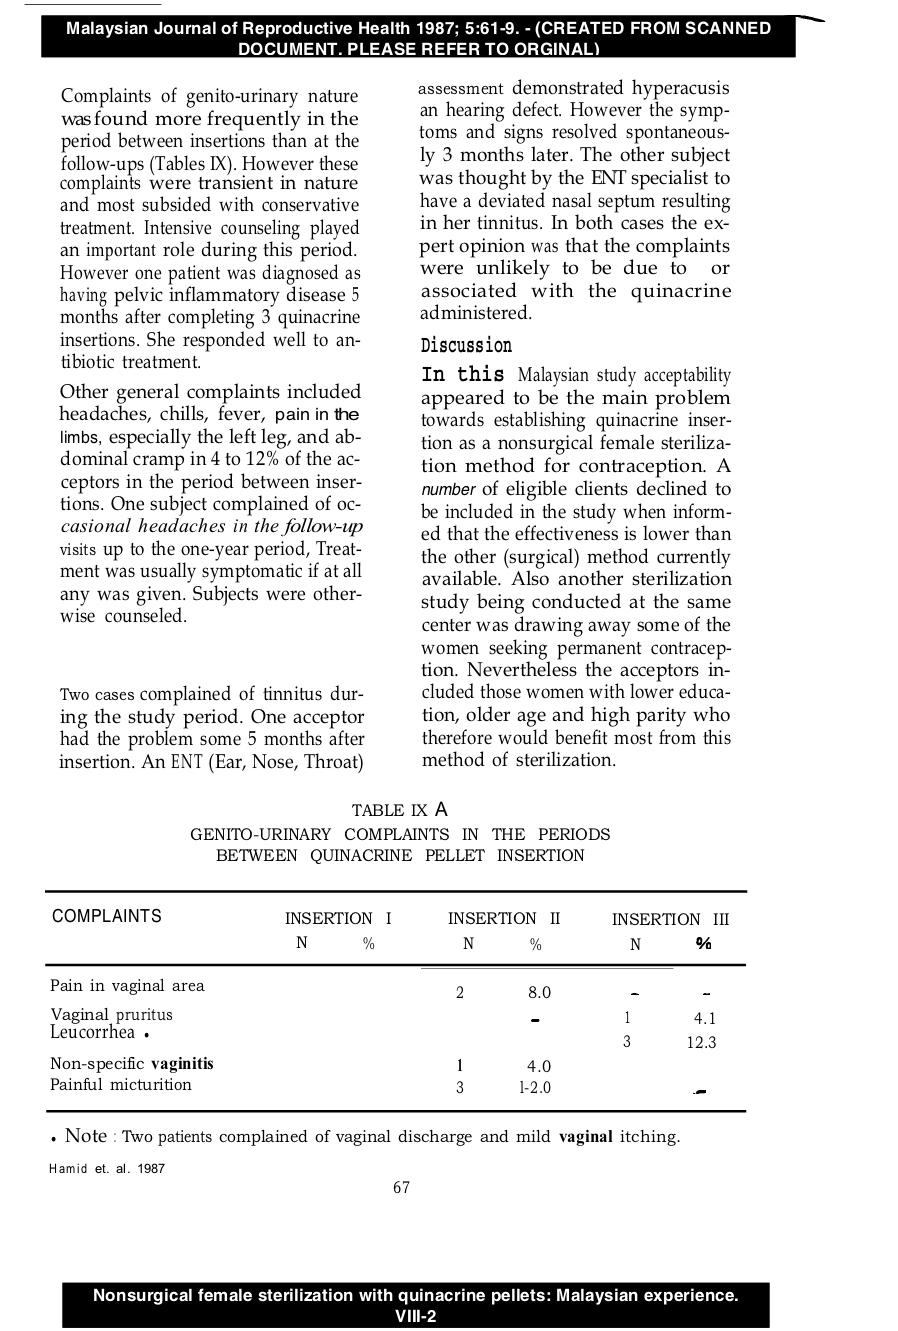Table: (45, 890, 747, 1112)
figure: (41, 14, 825, 58), (62, 1280, 769, 1328)
